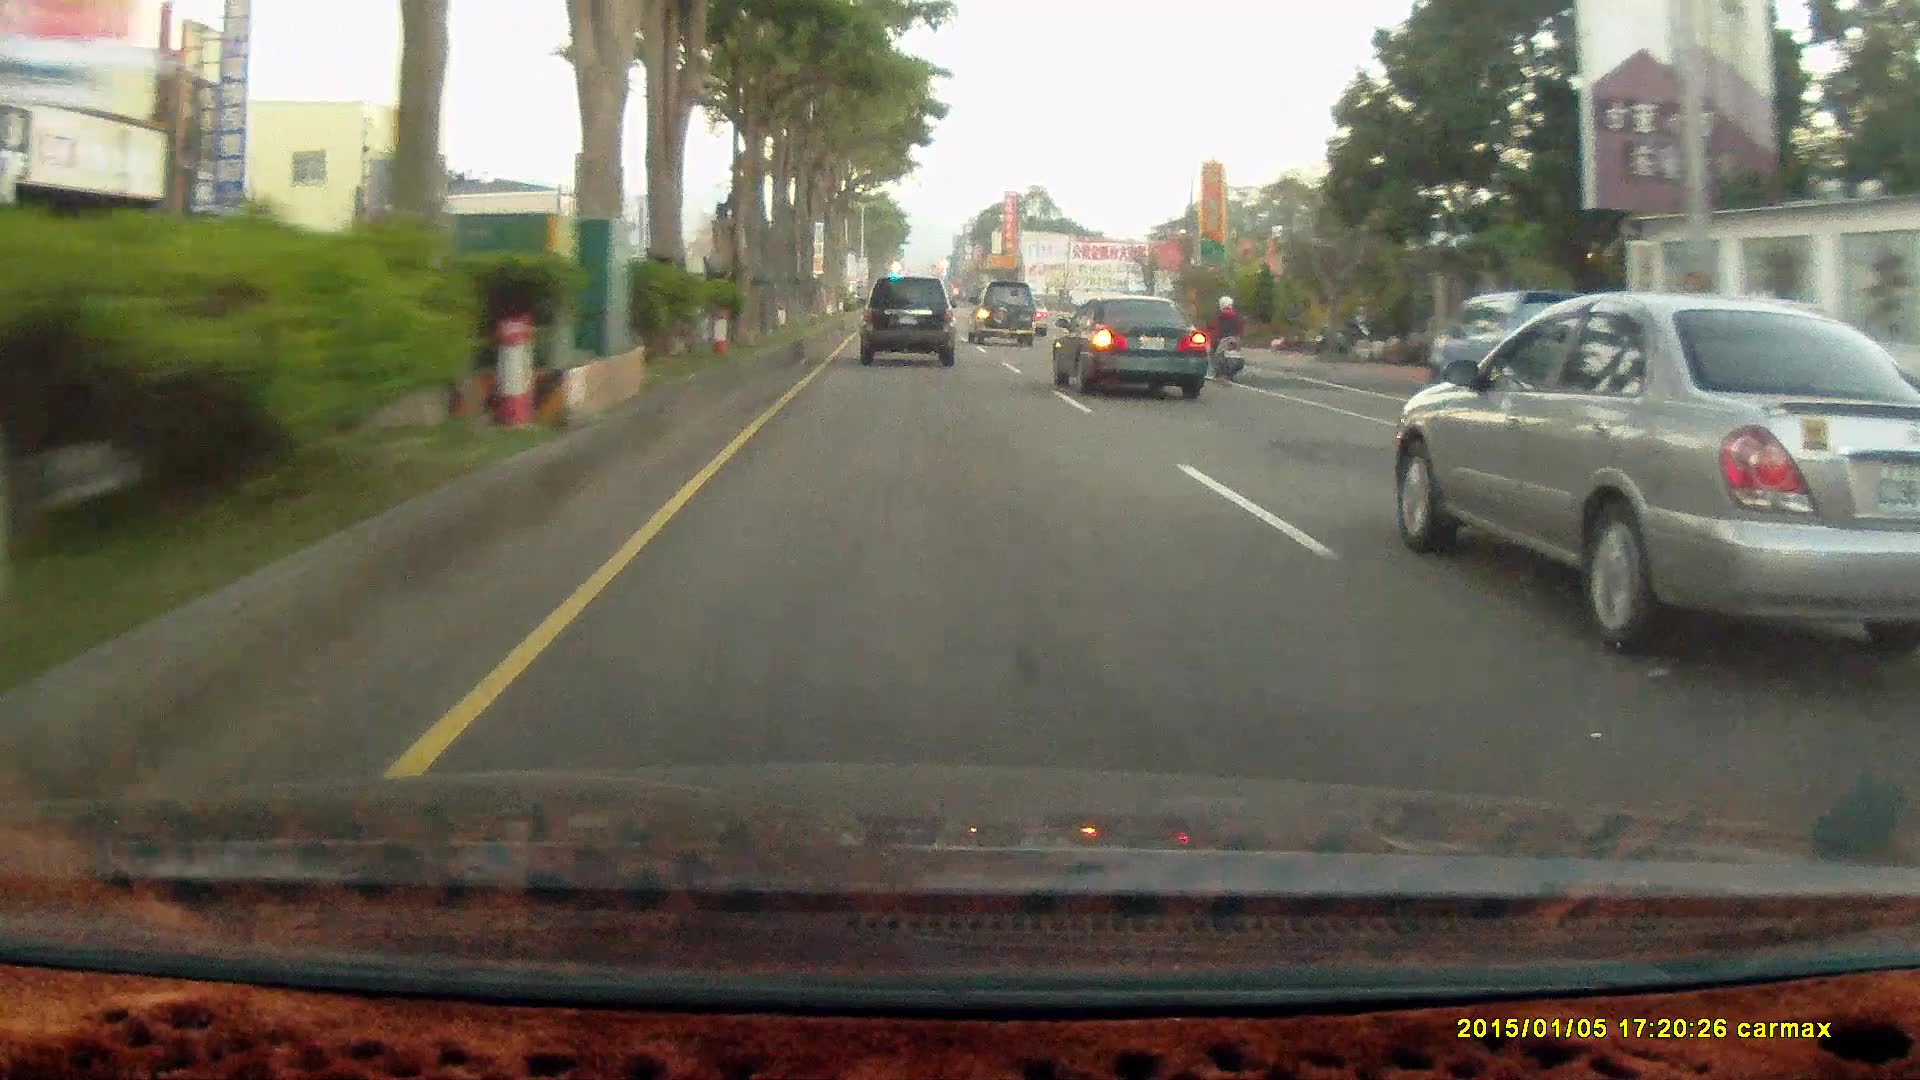rider: (1198, 288, 1253, 387), (1202, 291, 1246, 383)
vehicle: (1399, 299, 1920, 665), (1425, 286, 1620, 403), (1423, 287, 1618, 393), (1051, 294, 1209, 401), (1055, 297, 1213, 400), (861, 278, 962, 371), (855, 273, 954, 364), (967, 280, 1037, 349), (967, 279, 1037, 344)
